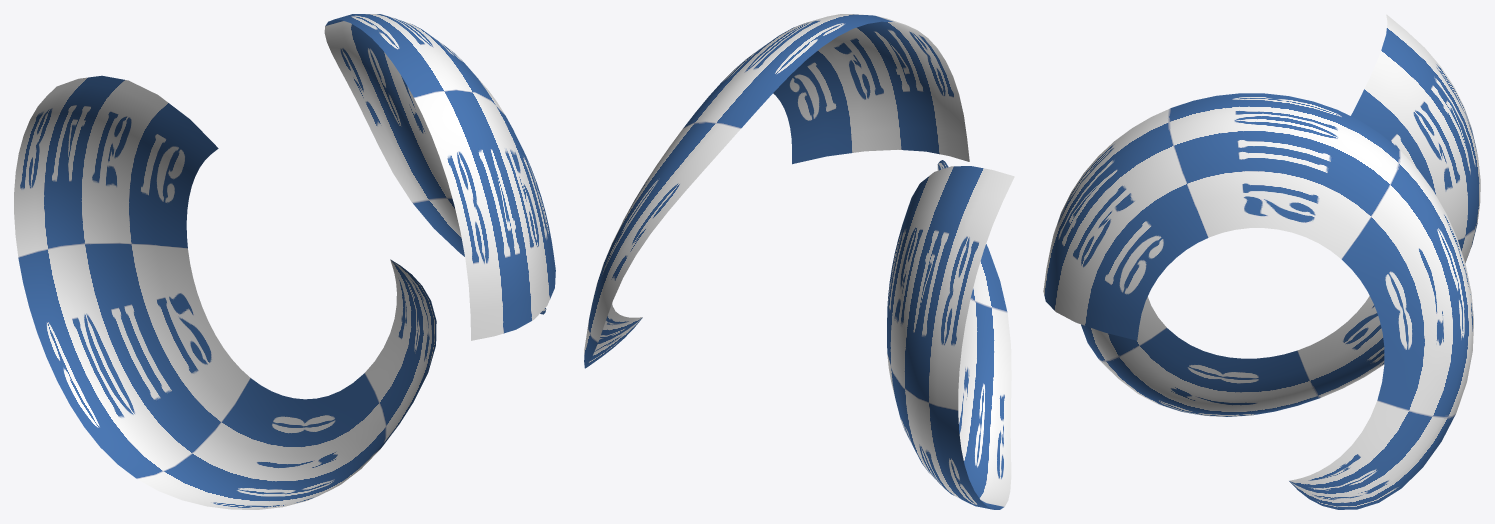
The model's file is Akaza_Wind1.fbx.
3 renders of one model, left to right at view 1: azimuth 30°, elevation 25°; view 2: azimuth 150°, elevation 25°; view 3: azimuth 270°, elevation 25°, orthographic. The views are drawn at different scales.
Visible parts, largest first — view 1: SM_e_Plc_P1012_Wind001; view 2: SM_e_Plc_P1012_Wind001; view 3: SM_e_Plc_P1012_Wind001.
Boxes of the visible parts, x1,y1,x2,y2 form: SM_e_Plc_P1012_Wind001: (14,14,555,509); SM_e_Plc_P1012_Wind001: (584,14,1014,509); SM_e_Plc_P1012_Wind001: (1043,14,1480,509).
Size of the model in its own units: 130 by 117 by 118.
